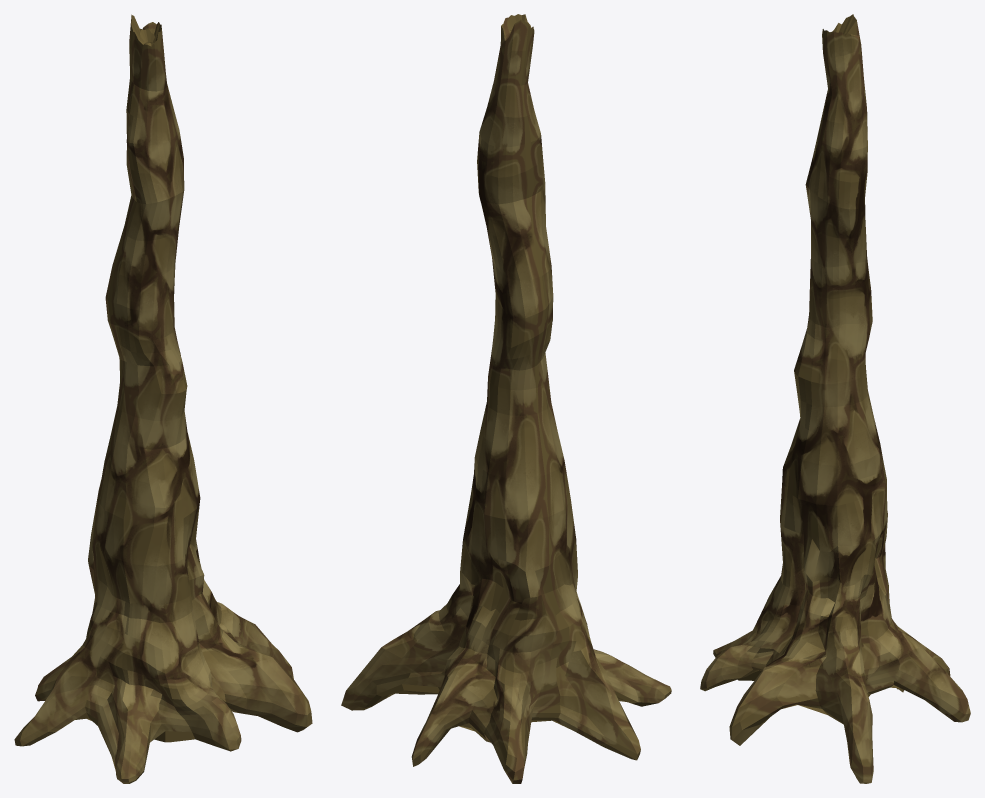
File: treeBaseStraight.fbx
The picture shows the model from 3 angles, left to right: view 1: azimuth 30°, elevation 25°; view 2: azimuth 150°, elevation 25°; view 3: azimuth 270°, elevation 25°; orthographic projection. The views are drawn at different scales.
Visible parts, largest first — view 1: pCylinder1; view 2: pCylinder1; view 3: pCylinder1.
Part boxes in pixels (<box>): pCylinder1: <box>14,14,312,783</box>; pCylinder1: <box>341,14,671,783</box>; pCylinder1: <box>700,14,970,783</box>.
Size of the model in its own units: 612 by 1476 by 522.
1 material, 1 textured.
